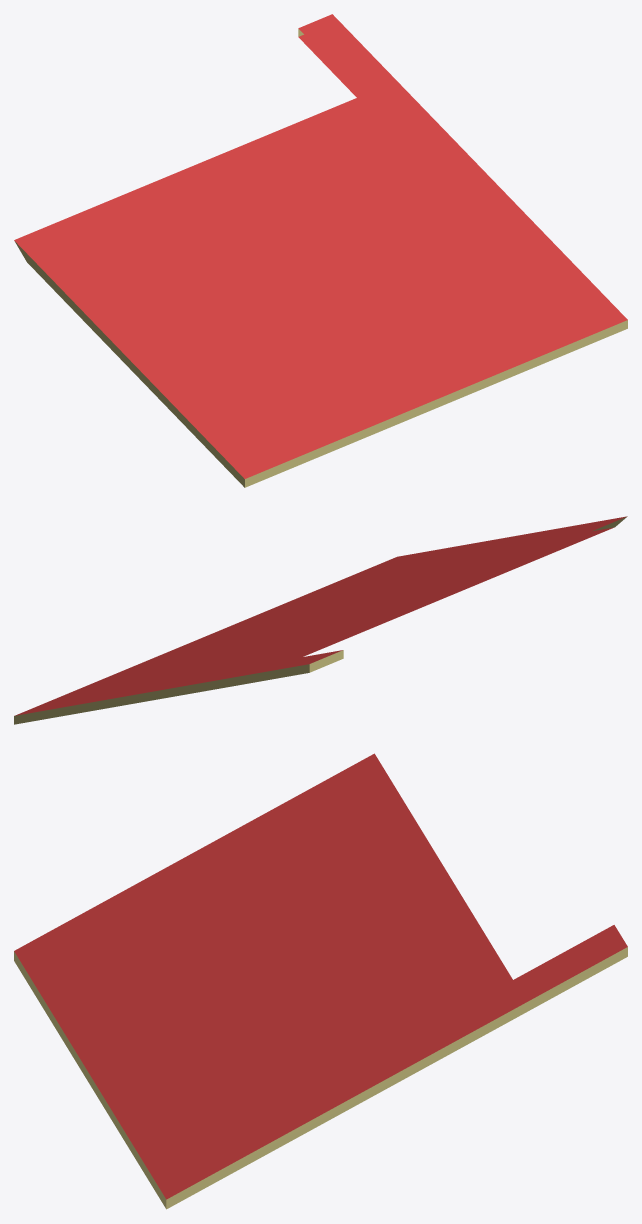
The picture shows the model from 3 angles, top to bottom: view 1: azimuth 30°, elevation 25°; view 2: azimuth 210°, elevation 25°; view 3: azimuth 270°, elevation 25°; orthographic projection. The views are drawn at different scales.
Bounding box in the file's own units: 6.27 × 5.65 × 2.15.
